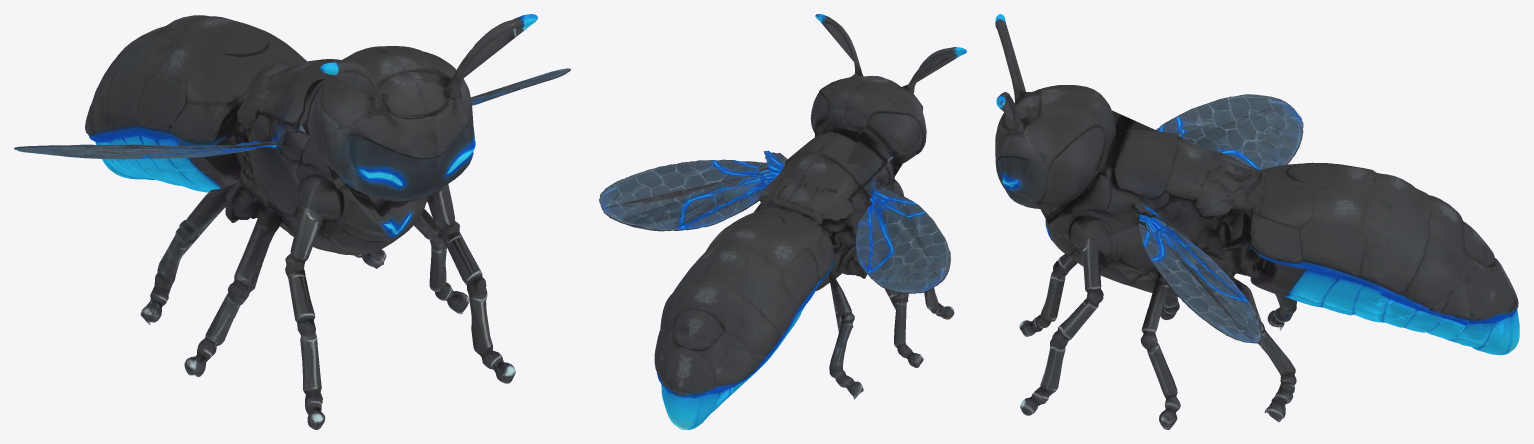
File: piri.optimized.glb
3 views of the same model, side by side, from view 1: azimuth 30°, elevation 25°; view 2: azimuth 150°, elevation 25°; view 3: azimuth 270°, elevation 25° (orthographic). The views are drawn at different scales.
Parts seen in each view (by area): view 1: Mesh_0, Wing_Right, Wing_Left; view 2: Mesh_0, Wing_Left, Wing_Right; view 3: Mesh_0, Wing_Right, Wing_Left.
Part boxes in pixels (left/top/right/bottom): Mesh_0: left=85, top=14, right=537, bottom=429; Wing_Right: left=14, top=140, right=281, bottom=159; Wing_Left: left=470, top=68, right=570, bottom=105; Mesh_0: left=654, top=14, right=966, bottom=429; Wing_Left: left=599, top=159, right=772, bottom=231; Wing_Right: left=855, top=185, right=950, bottom=293; Mesh_0: left=995, top=14, right=1519, bottom=429; Wing_Right: left=1156, top=94, right=1303, bottom=170; Wing_Left: left=1135, top=213, right=1262, bottom=343.
Size of the model in its own units: 1.94 by 1.35 by 2.
Materials: 1 (1 with a texture image).
